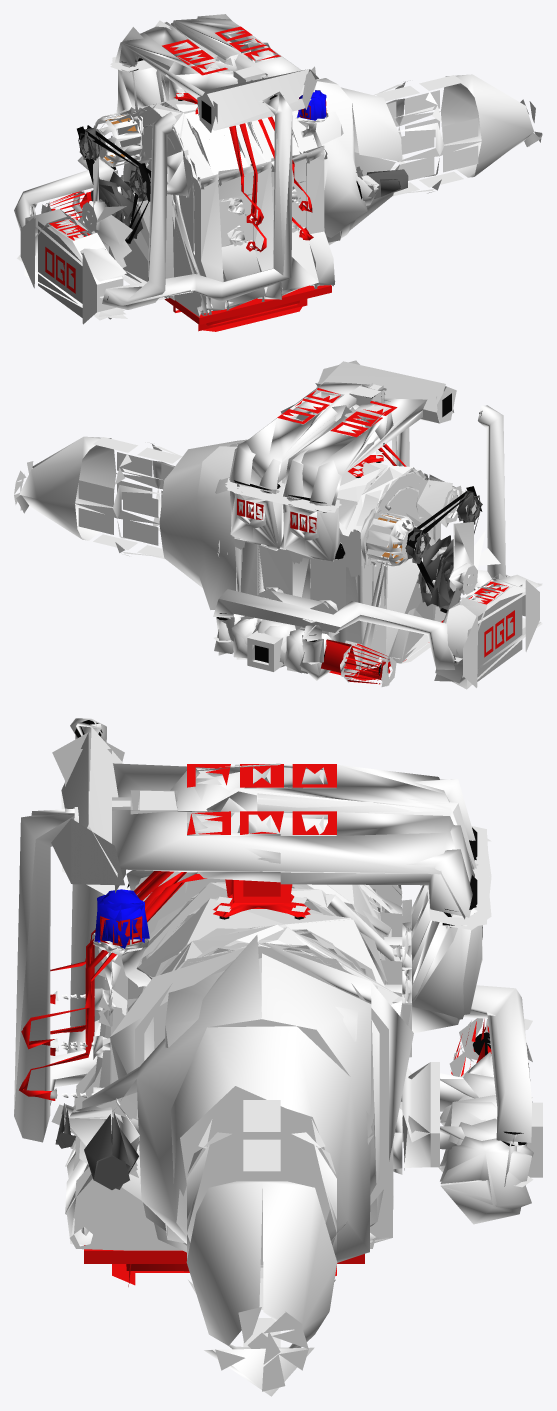
File: eng-rotary-13b-t.glb
3 renders of one model, top to bottom at view 1: azimuth 30°, elevation 25°; view 2: azimuth 150°, elevation 25°; view 3: azimuth 270°, elevation 25°, orthographic. The views are drawn at different scales.
Visible parts, largest first — view 1: p0; view 2: p0; view 3: p0.
Part boxes in pixels (x1,y1,x2,y2): p0: (14, 14, 542, 331); p0: (14, 360, 542, 689); p0: (14, 718, 542, 1396).
Bounding box in the file's own units: 10.7 × 5.52 × 5.64.
